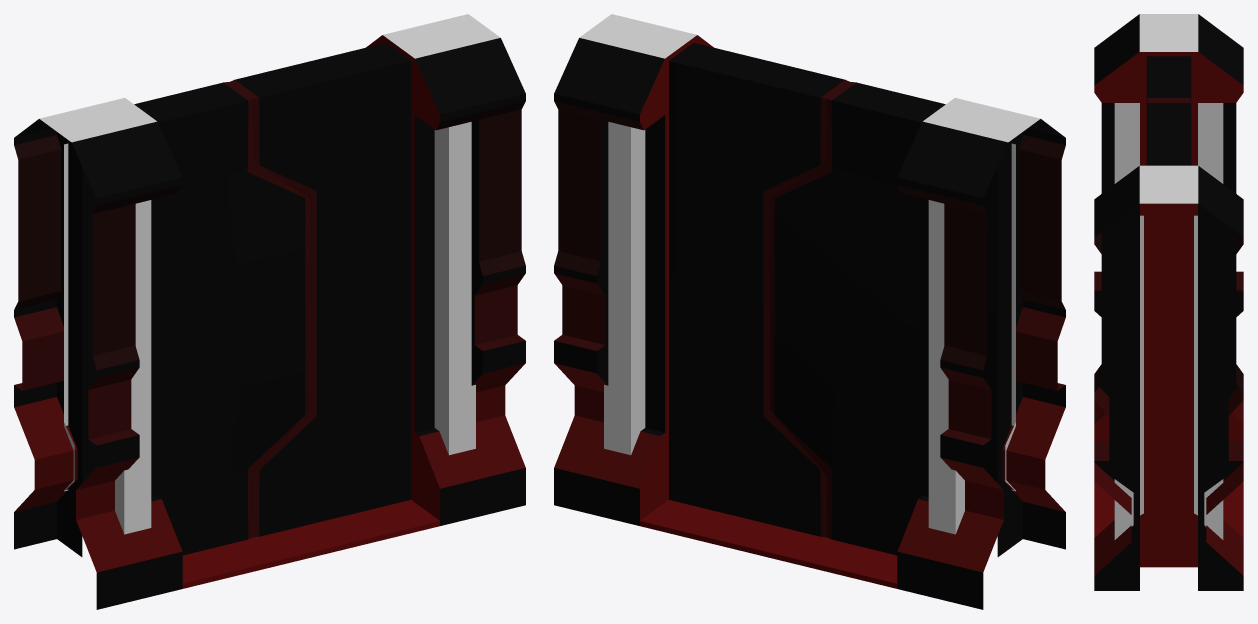
Rendered from Door.fbx.
3 renders of one model, left to right at view 1: azimuth 30°, elevation 25°; view 2: azimuth 150°, elevation 25°; view 3: azimuth 270°, elevation 25°, orthographic. The views are drawn at different scales.
Visible parts, largest first — view 1: Door_Frame, Door_2, Door_1, Door_Lights, Door_Frame_Dark_Top; view 2: Door_Frame, Door_2, Door_1, Door_Lights, Door_Frame_Dark_Top; view 3: Door_Frame, Door_Lights, Door_Frame_Dark_Top, Door_2, Door_1.
Part boxes in pixels (x1=…): Door_Frame: x1=14, y1=35, x2=525, y2=609; Door_2: x1=225, y1=42, x2=410, y2=537; Door_1: x1=134, y1=81, x2=309, y2=555; Door_Lights: x1=64, y1=122, x2=475, y2=534; Door_Frame_Dark_Top: x1=39, y1=14, x2=500, y2=142; Door_Frame: x1=554, y1=35, x2=1065, y2=609; Door_2: x1=669, y1=42, x2=852, y2=537; Door_1: x1=770, y1=81, x2=945, y2=555; Door_Lights: x1=604, y1=122, x2=1015, y2=534; Door_Frame_Dark_Top: x1=579, y1=14, x2=1040, y2=142; Door_Frame: x1=1094, y1=14, x2=1243, y2=590; Door_Lights: x1=1114, y1=103, x2=1223, y2=539; Door_Frame_Dark_Top: x1=1139, y1=14, x2=1198, y2=203; Door_2: x1=1146, y1=98, x2=1191, y2=165; Door_1: x1=1146, y1=56, x2=1191, y2=102.
Bounding box in the file's own units: 300 × 300 × 100.
